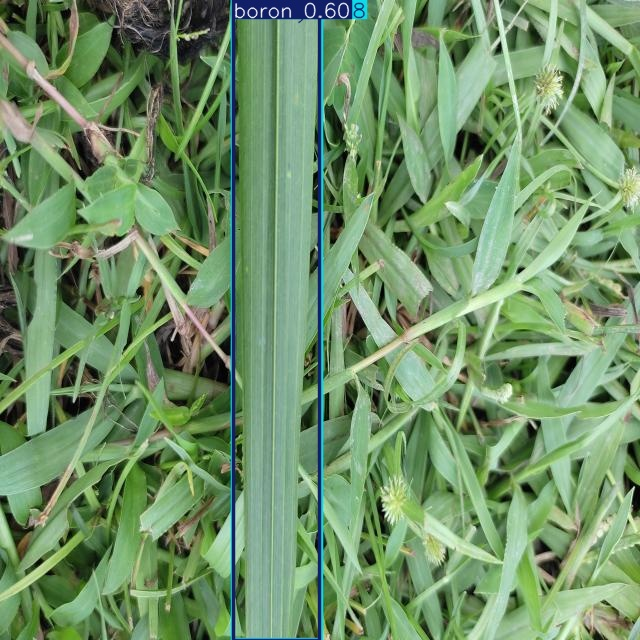Healthy: (233, 0, 322, 640)
nitrogen: (234, 0, 319, 640)
